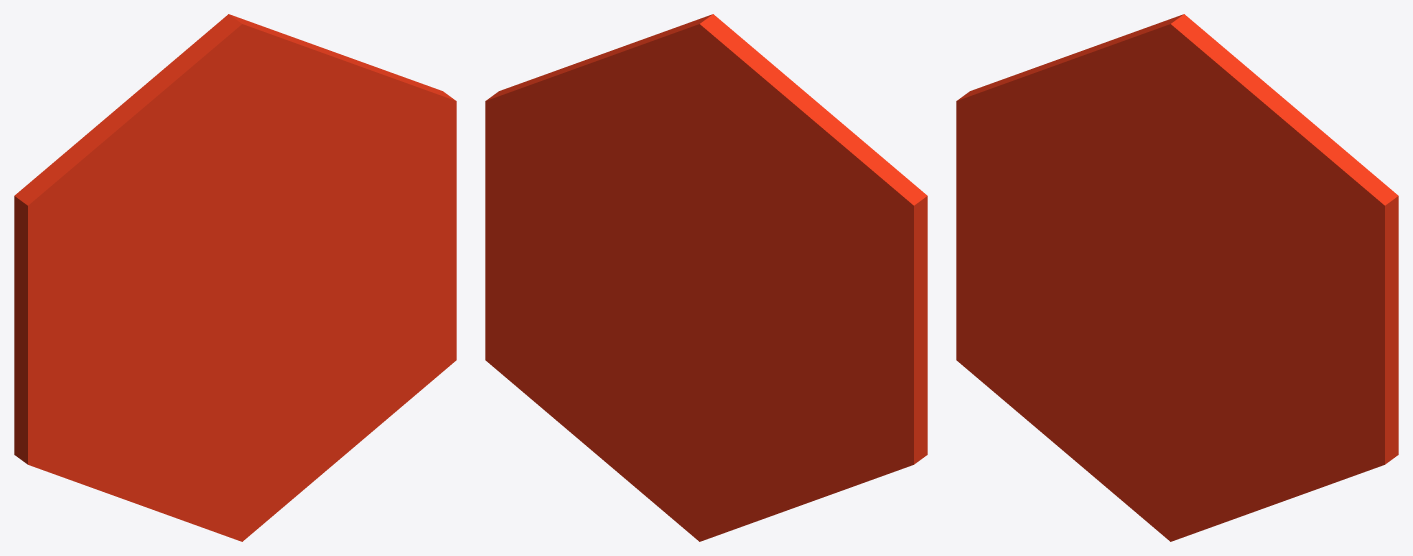
File: chili.obj
3 renders of one model, left to right at view 1: azimuth 30°, elevation 25°; view 2: azimuth 150°, elevation 25°; view 3: azimuth 330°, elevation 25°, orthographic.
Parts seen in each view (by area): view 1: bowlSoup.001; view 2: bowlSoup.001; view 3: bowlSoup.001.
Boxes of the visible parts, x1,y1,x2,y2 form: bowlSoup.001: [14, 14, 456, 541]; bowlSoup.001: [485, 14, 927, 541]; bowlSoup.001: [956, 14, 1398, 541].
Bounding box in the file's own units: 0.2001 × 0.2311 × 0.011.
